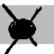not correct: (0, 0, 40, 54)
